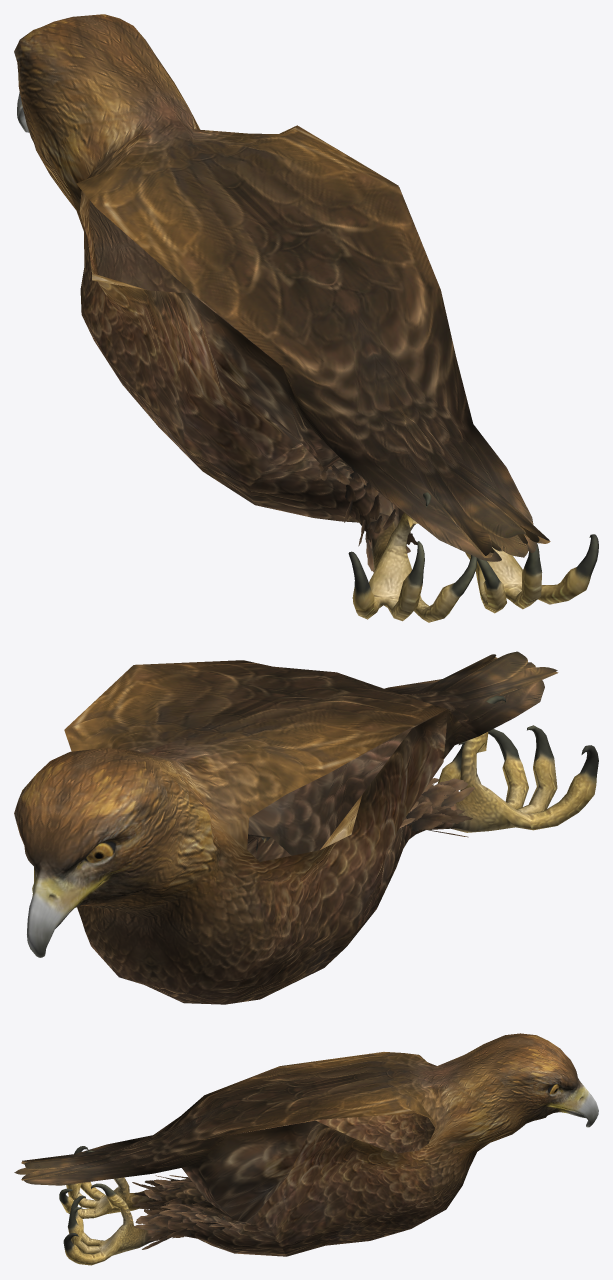
The model's file is es_aguila.obj.
The picture shows the model from 3 angles, top to bottom: view 1: azimuth 30°, elevation 25°; view 2: azimuth 150°, elevation 25°; view 3: azimuth 270°, elevation 25°; orthographic projection. The views are drawn at different scales.
Parts seen in each view (by area): view 1: EAGLE_ Pelvis_03_10, EAGLE_ Spine_04_11, EAGLE_ Neck_05_12, Eagle_ TailL_024_32, EAGLE_ Head_07_14, EAGLE_ Tail_026_34, EAGLE_ L UpperArm_017_25, Eagle_ TailR_025_33, EAGLE_ Neck1_06_13, EAGLE_ L Thigh_037_45, EAGLE_ L Calf_038_46, EAGLE_ R UpperArm_010_17 (+5 smaller); view 2: EAGLE_ Spine_04_11, EAGLE_ Pelvis_03_10, EAGLE_ Head_07_14, EAGLE_ Neck_05_12, EAGLE_ L UpperArm_017_25, EAGLE_ Neck1_06_13, EAGLE_ Tail_026_34, EAGLE_ R UpperArm_010_17, EAGLE_ L Toe02_043_51, Eagle_ TailL_024_32, EAGLE_ L HorseLink_039_47, EAGLE_ L Foot_040_48 (+6 smaller); view 3: EAGLE_ Spine_04_11, EAGLE_ Pelvis_03_10, EAGLE_ Head_07_14, EAGLE_ Neck_05_12, Eagle_ TailR_025_33, EAGLE_ R Calf_028_36, EAGLE_ R Thigh_027_35, EAGLE_ R UpperArm_010_17, EAGLE_ Neck1_06_13, EAGLE_ Tail_026_34, EAGLE_ R HorseLink_029_37, EAGLE_ L HorseLink_039_47 (+12 smaller).
Part boxes in pixels (x1,y1,x2,y2): EAGLE_ Pelvis_03_10: (131,152,440,470); EAGLE_ Spine_04_11: (80,129,296,504); EAGLE_ Neck_05_12: (54,82,247,270); Eagle_ TailL_024_32: (283,367,501,561); EAGLE_ Head_07_14: (14,14,173,141); EAGLE_ Tail_026_34: (397,404,550,557); EAGLE_ L UpperArm_017_25: (76,154,255,290); Eagle_ TailR_025_33: (397,290,536,552); EAGLE_ Neck1_06_13: (30,58,187,209); EAGLE_ L Thigh_037_45: (191,368,306,485); EAGLE_ L Calf_038_46: (249,444,371,522); EAGLE_ R UpperArm_010_17: (249,125,397,185); EAGLE_ Spine_04_11: (77,692,411,1004); EAGLE_ Pelvis_03_10: (134,660,454,855); EAGLE_ Head_07_14: (14,747,177,957); EAGLE_ Neck_05_12: (96,733,268,938); EAGLE_ L UpperArm_017_25: (211,702,410,861); EAGLE_ Neck1_06_13: (88,749,208,912); EAGLE_ Tail_026_34: (383,651,558,753); EAGLE_ R UpperArm_010_17: (64,665,163,751); EAGLE_ L Toe02_043_51: (488,725,598,805); Eagle_ TailL_024_32: (386,680,544,753); EAGLE_ L HorseLink_039_47: (408,774,488,837); EAGLE_ L Foot_040_48: (468,783,531,831); EAGLE_ Spine_04_11: (266,1053,469,1256); EAGLE_ Pelvis_03_10: (165,1055,379,1220); EAGLE_ Head_07_14: (483,1033,598,1127); EAGLE_ Neck_05_12: (398,1053,495,1167); Eagle_ TailR_025_33: (24,1135,227,1185); EAGLE_ R Calf_028_36: (165,1203,286,1256); EAGLE_ R Thigh_027_35: (231,1173,309,1246); EAGLE_ R UpperArm_010_17: (317,1087,445,1150); EAGLE_ Neck1_06_13: (465,1044,527,1140); EAGLE_ Tail_026_34: (14,1137,163,1180); EAGLE_ R HorseLink_029_37: (129,1204,196,1249); EAGLE_ L HorseLink_039_47: (126,1175,182,1210).
Size of the model in its own units: 27.65 by 34.17 by 91.51.
